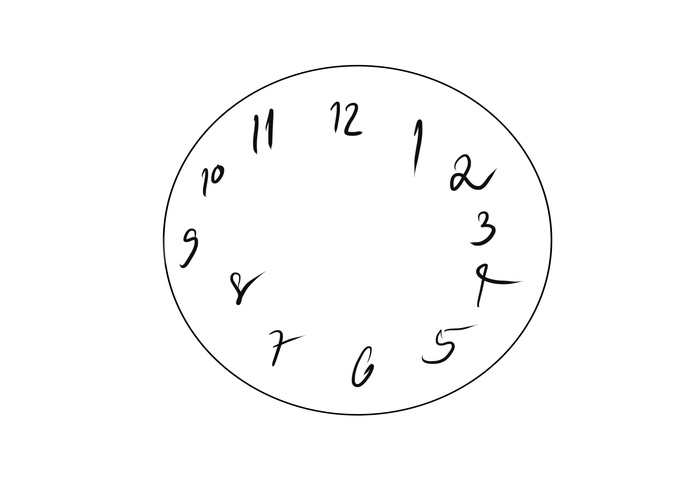eight: (220, 259, 266, 310)
eleven: (247, 104, 283, 158)
five: (416, 323, 469, 374)
four: (470, 255, 517, 305)
nine: (176, 228, 207, 270)
one: (402, 118, 430, 177)
seven: (265, 318, 299, 365)
six: (347, 341, 375, 382)
ten: (202, 155, 231, 199)
three: (466, 206, 498, 246)
twelve: (324, 96, 370, 148)
two: (444, 145, 499, 196)
